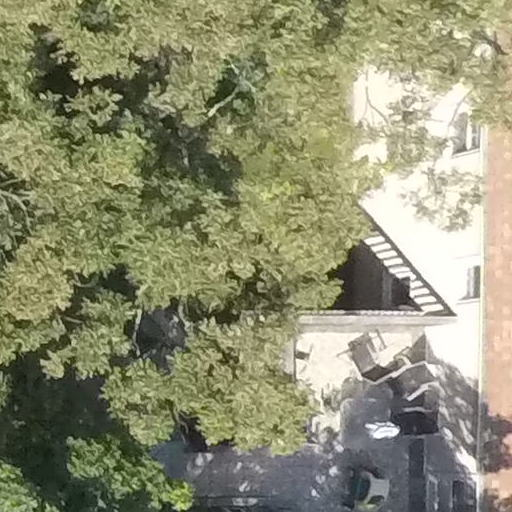car: (343, 454, 391, 512)
chair: (340, 324, 397, 386), (393, 343, 446, 404)
porch: (111, 229, 462, 512)
table: (336, 386, 404, 463)
